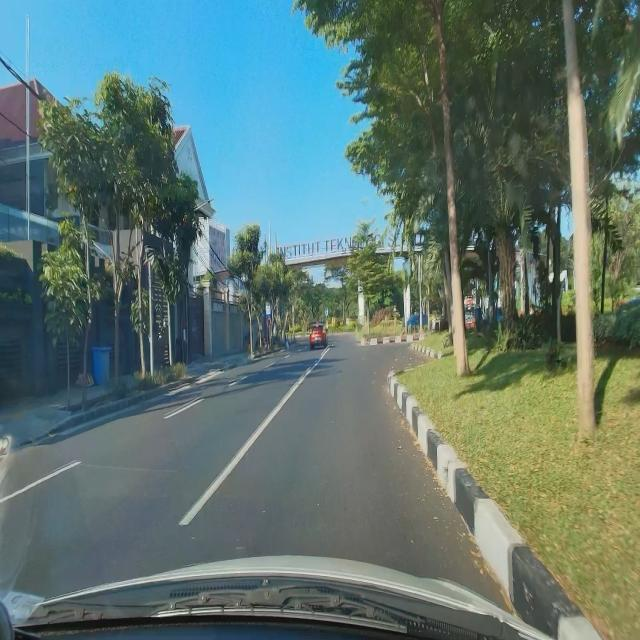car: (309, 322, 328, 351)
